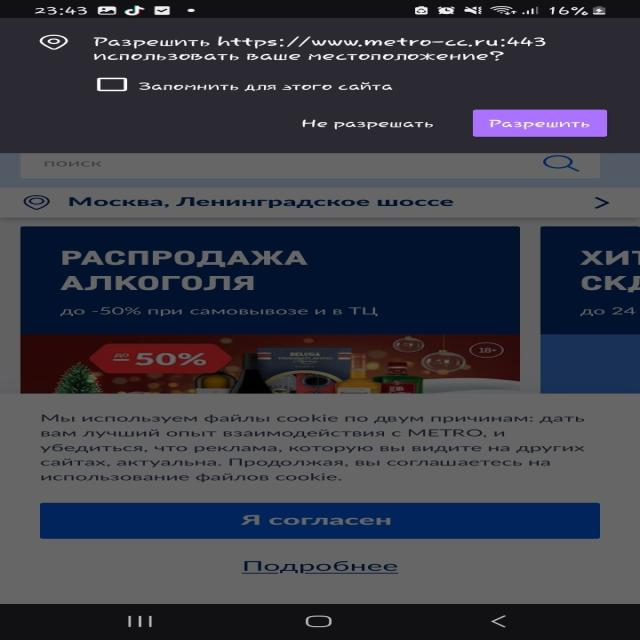button: (38, 501, 606, 538), (44, 553, 596, 586), (291, 111, 447, 137), (474, 111, 604, 136)
site: (0, 396, 640, 604)
system: (0, 18, 640, 153)
